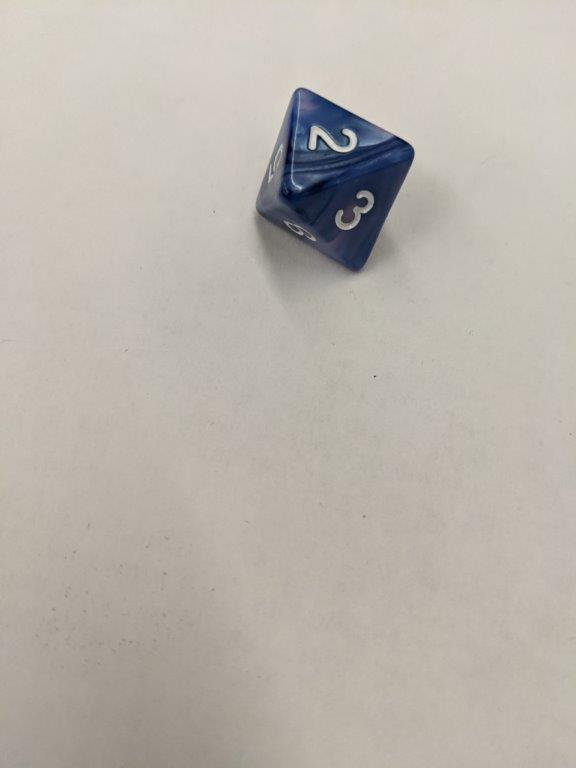d8-2: (257, 86, 417, 276)
